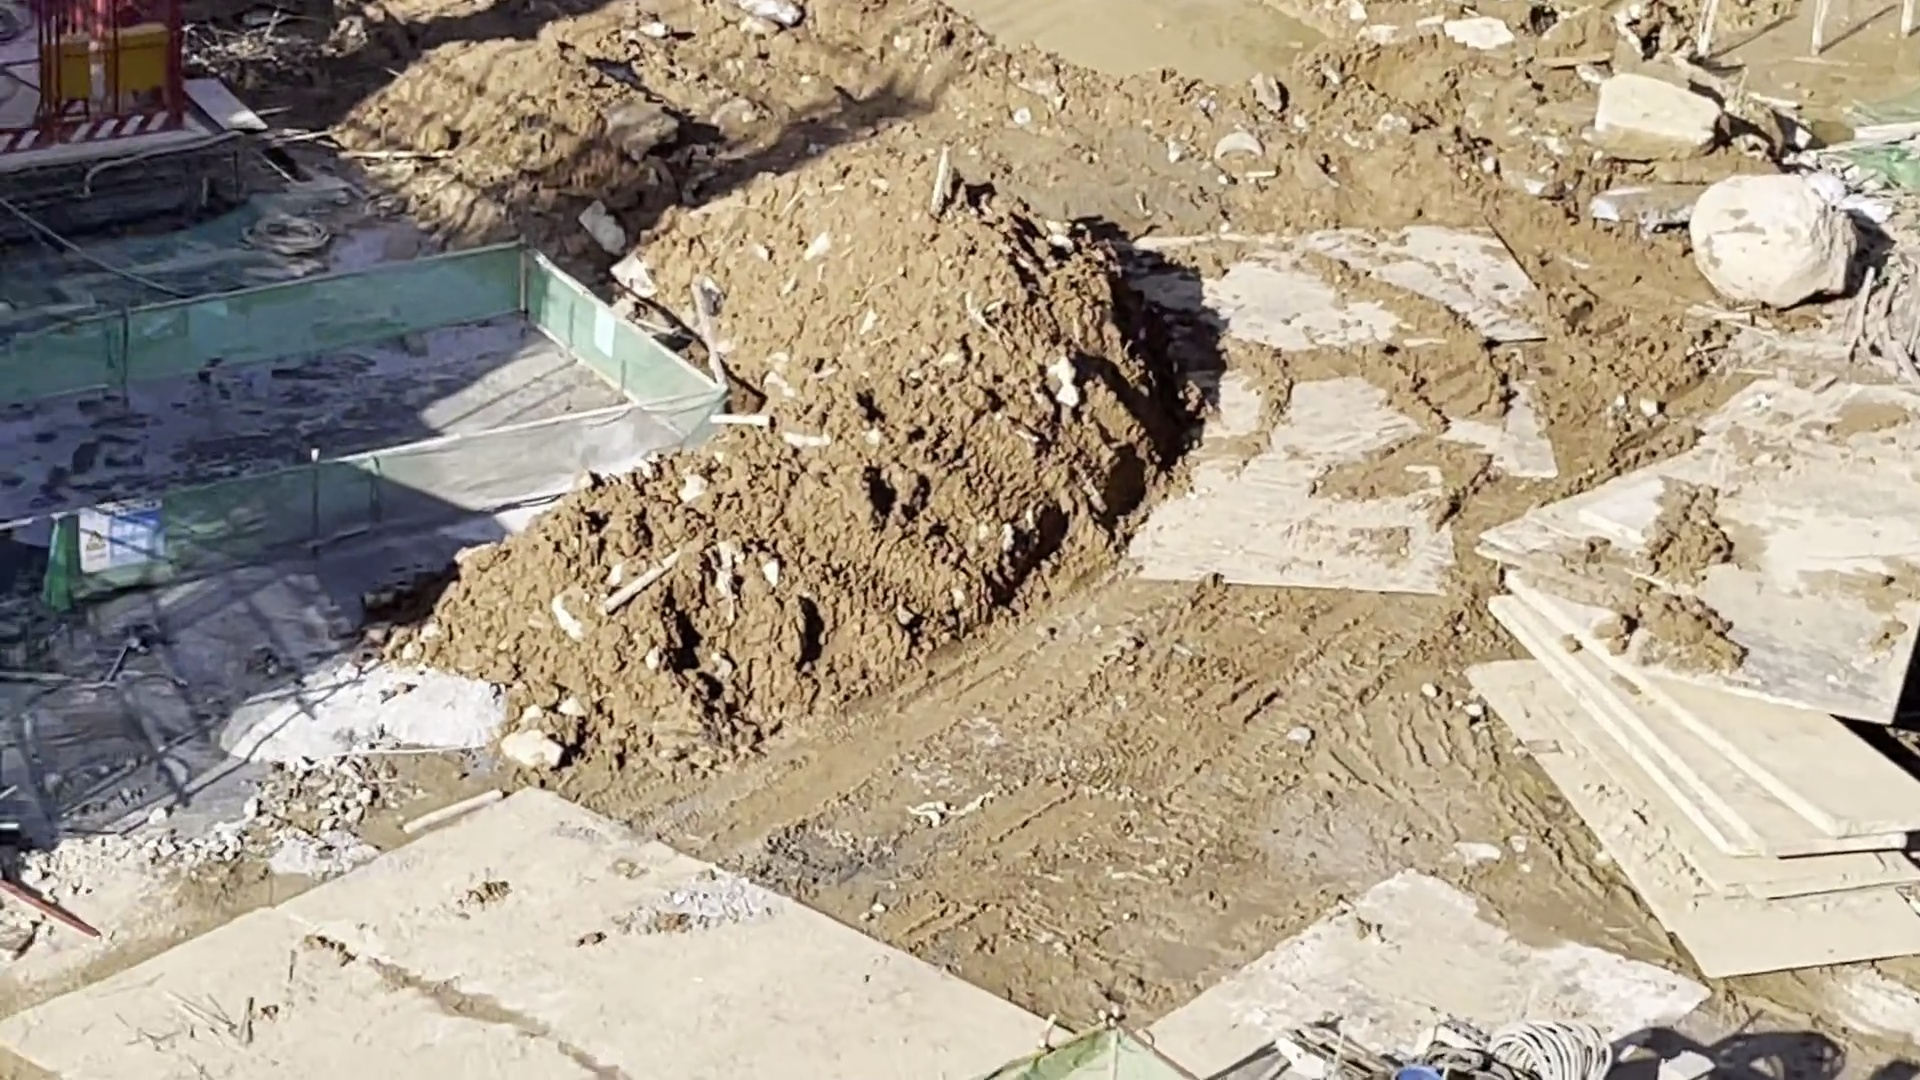ebox: (109, 22, 179, 111), (45, 36, 107, 105)
slogan: (71, 506, 157, 572)
